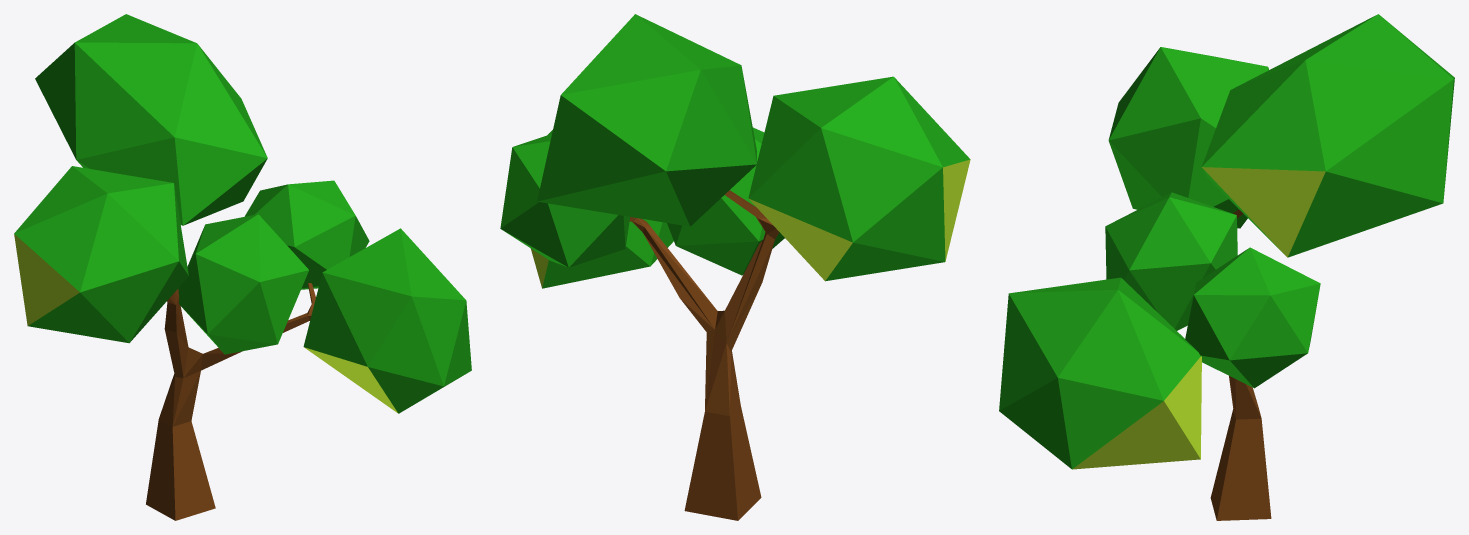
The model's file is Tree1.fbx.
3 views of the same model, side by side, from view 1: azimuth 30°, elevation 25°; view 2: azimuth 150°, elevation 25°; view 3: azimuth 270°, elevation 25° (orthographic). The views are drawn at different scales.
Visible parts, largest first — view 1: Tree; view 2: Tree; view 3: Tree.
Part boxes in pixels (x1=…): Tree: x1=14, y1=14, x2=471, y2=520; Tree: x1=500, y1=14, x2=970, y2=520; Tree: x1=999, y1=14, x2=1454, y2=520.
Bounding box in the file's own units: 842 × 876 × 765.
